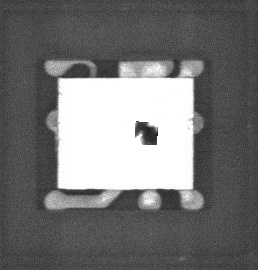DIE_INK: (135, 121, 160, 146)
